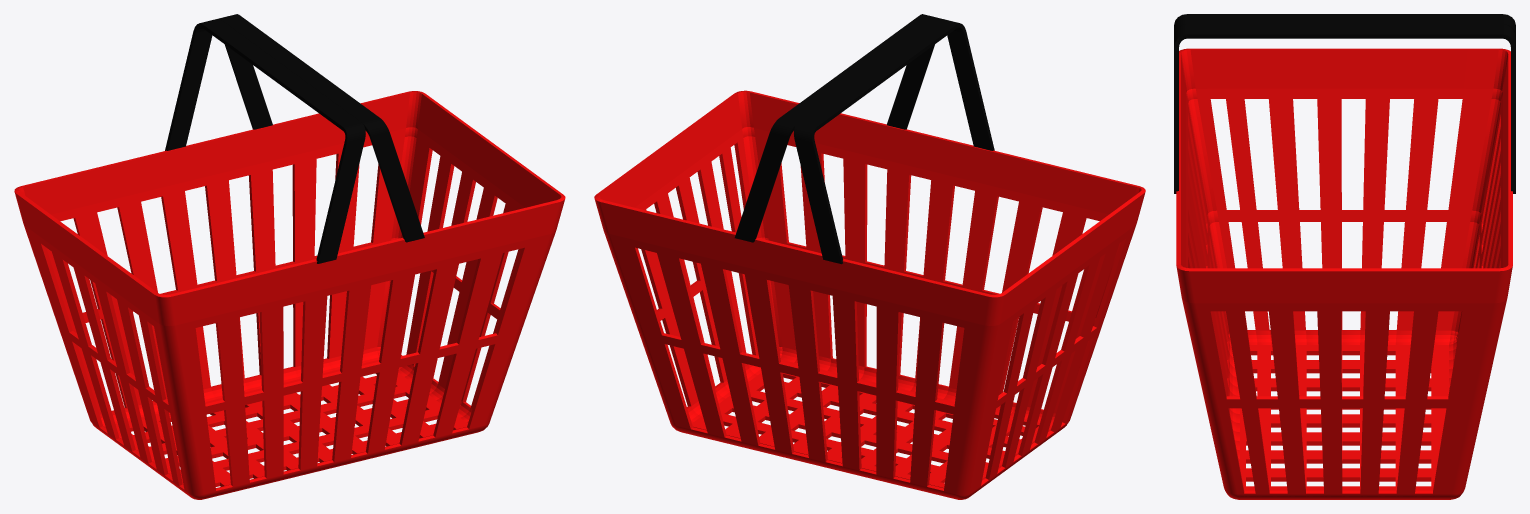
The model's file is basket.mtl.obj.
3 views of the same model, side by side, from view 1: azimuth 30°, elevation 25°; view 2: azimuth 150°, elevation 25°; view 3: azimuth 270°, elevation 25° (orthographic). The views are drawn at different scales.
Parts seen in each view (by area): view 1: Basket; view 2: Basket; view 3: Basket.
Boxes of the visible parts, <box> form: Basket: <box>14,14,565,499</box>; Basket: <box>594,14,1145,499</box>; Basket: <box>1174,14,1515,499</box>.
Size of the model in its own units: 1.58 by 1.33 by 1.03.
